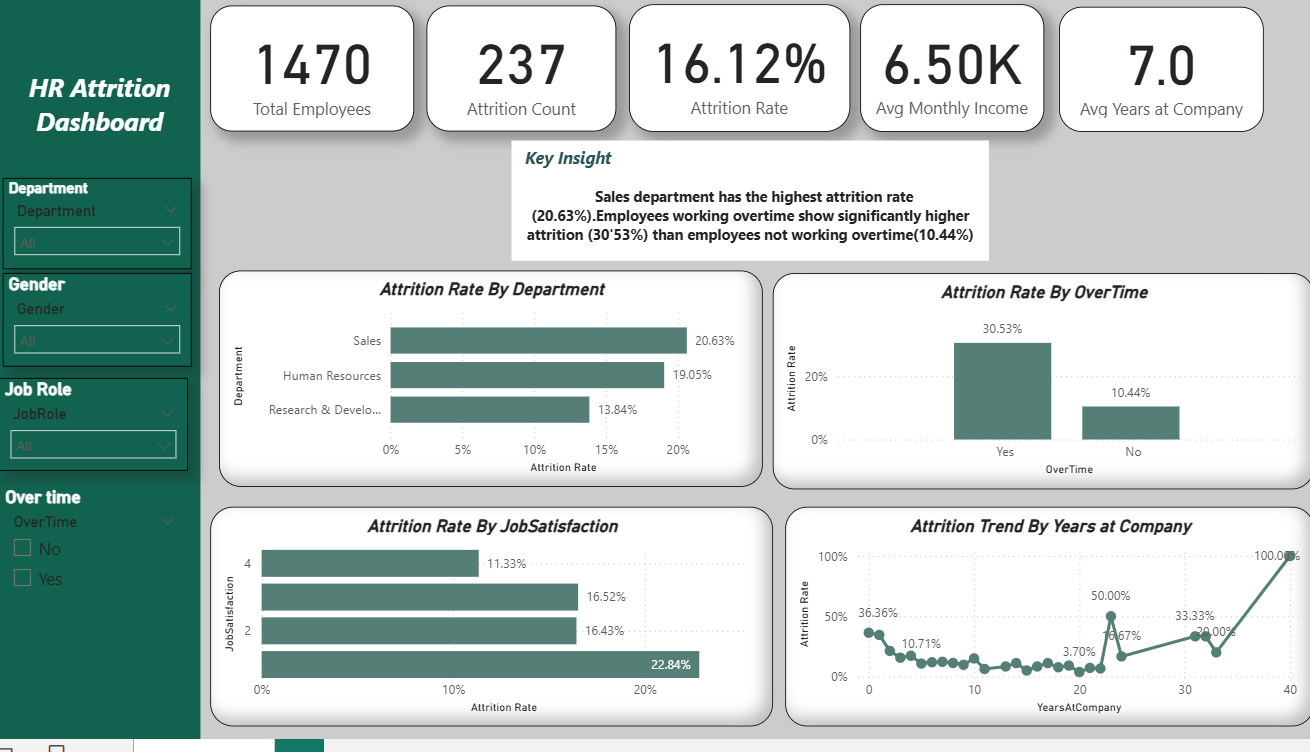

The dashboard page shown, as its layout file describes it:
{"tool":"powerbi","page":{"name":"DASHBOARD","canvas":[1280,720],"ordinal":0},"visuals":[{"type":"card","fields":{"Values":["HR-Employee-Attrition.Total Employees"]},"box":[203.9,12.1,196.6,121.9],"z":0},{"type":"card","fields":{"Values":["HR-Employee-Attrition.Employees Left"]},"box":[412.6,12.1,183.4,121.9],"z":1000},{"type":"card","fields":{"Values":["HR-Employee-Attrition.Attrition Rate %"]},"box":[608,10.9,213.5,123.1],"z":2000},{"type":"card","fields":{"Values":["HR-Employee-Attrition.Avg Monthly Income"]},"box":[831.2,10.9,177.3,123.1],"z":3000},{"type":"clusteredBarChart","title":"Attrition Rate By Department","fields":{"Category":["HR-Employee-Attrition.Department"],"Y":["HR-Employee-Attrition.Attrition Rate %"]},"box":[212.3,267.8,524.8,208.7],"z":4000},{"type":"clusteredColumnChart","title":"Attrition Rate By OverTime","fields":{"Category":["HR-Employee-Attrition.OverTime"],"Y":["HR-Employee-Attrition.Attrition Rate %"]},"box":[746.8,270.2,522.4,208.7],"z":5000},{"type":"clusteredBarChart","title":"Attrition Rate By JobSatisfaction","fields":{"Category":["HR-Employee-Attrition.JobSatisfaction"],"Y":["HR-Employee-Attrition.Attrition Rate %"]},"box":[203.9,495.8,542.9,212.3],"z":6000},{"type":"lineChart","title":"Attrition Trend By Years at Company","fields":{"Y":["HR-Employee-Attrition.Attrition Rate %"],"Category":["HR-Employee-Attrition.YearsAtCompany"]},"box":[758.9,495.8,510.3,212.3],"z":7000},{"type":"textbox","box":[494.6,142.4,460.9,115.8],"z":8000},{"type":"textbox","box":[0,0,194.2,720.2],"z":9000},{"type":"slicer","title":"Department","fields":{"Values":["HR-Employee-Attrition.Department"]},"box":[3.6,178.6,182.2,88.1],"z":10000},{"type":"slicer","title":"Gender","fields":{"Values":["HR-Employee-Attrition.Gender"]},"box":[3.6,270.2,182.2,90.5],"z":11000},{"type":"slicer","title":"Job Role","fields":{"Values":["HR-Employee-Attrition.JobRole"]},"box":[0,371.6,182.2,89.3],"z":12000},{"type":"card","fields":{"Values":["HR-Employee-Attrition.Avg Years at Company"]},"box":[1023.1,13.3,197.9,120.6],"z":12001},{"type":"slicer","title":"Over time","fields":{"Values":["HR-Employee-Attrition.OverTime"]},"box":[1.2,476.5,181,111],"z":12002}]}

Visuals, with their boxes in screenshot pixels (x1, y1, x2, y2), scaled from the page's 1280x720 canvas onto the 1310x752 screenshot:
card - HR-Employee-Attrition.Total Employees: [left=209, top=13, right=410, bottom=140]
card - HR-Employee-Attrition.Employees Left: [left=422, top=13, right=610, bottom=140]
card - HR-Employee-Attrition.Attrition Rate %: [left=622, top=11, right=841, bottom=140]
card - HR-Employee-Attrition.Avg Monthly Income: [left=851, top=11, right=1032, bottom=140]
"Attrition Rate By Department" clusteredBarChart: [left=217, top=280, right=754, bottom=498]
"Attrition Rate By OverTime" clusteredColumnChart: [left=764, top=282, right=1299, bottom=500]
"Attrition Rate By JobSatisfaction" clusteredBarChart: [left=209, top=518, right=764, bottom=740]
"Attrition Trend By Years at Company" lineChart: [left=777, top=518, right=1299, bottom=740]
textbox: [left=506, top=149, right=978, bottom=270]
textbox: [left=0, top=0, right=199, bottom=751]
"Department" slicer: [left=4, top=187, right=190, bottom=279]
"Gender" slicer: [left=4, top=282, right=190, bottom=377]
"Job Role" slicer: [left=0, top=388, right=186, bottom=481]
card - HR-Employee-Attrition.Avg Years at Company: [left=1047, top=14, right=1250, bottom=140]
"Over time" slicer: [left=1, top=498, right=186, bottom=614]
